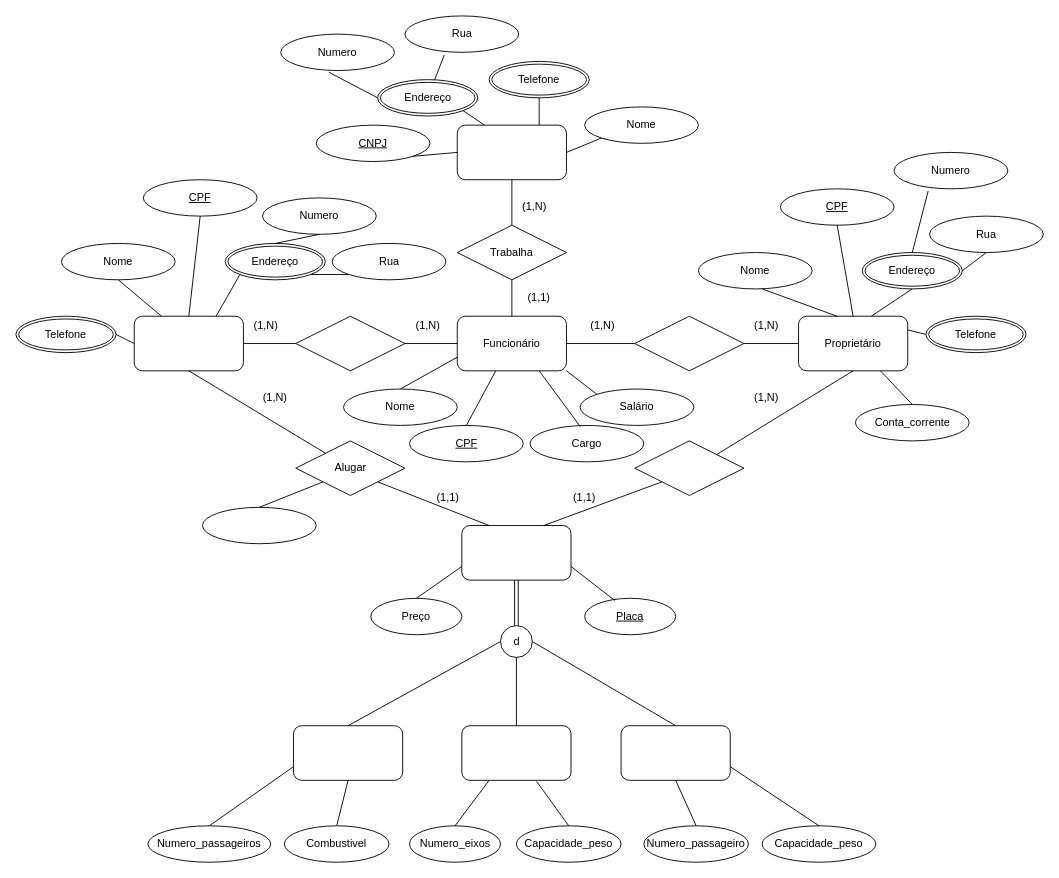
Some shapes in this 1059 by 878 pixel diagram are drawn without their labels. Here are the shapes that lost their labels. From the top down, the box of each, then its label:
(456, 124, 566, 180): Empresa
(133, 315, 243, 371): Cliente
(295, 315, 405, 371): Solicita
(634, 315, 744, 371): Acordo
(634, 440, 744, 495): Dono
(202, 506, 316, 544): Numero_Pedido
(461, 525, 571, 580): Veículo
(293, 725, 403, 780): Carro
(461, 725, 571, 780): Caminhão
(620, 725, 730, 780): Ônibus
